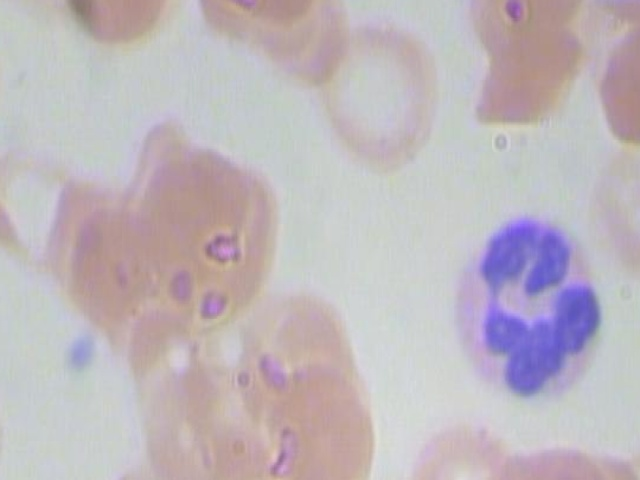Platelets: (55, 327, 99, 375)
RBC: (151, 143, 302, 313), (308, 15, 458, 186), (454, 2, 593, 146), (52, 182, 174, 336), (132, 343, 254, 480), (259, 351, 381, 480), (575, 0, 640, 157), (396, 406, 517, 480), (580, 134, 640, 277), (48, 0, 187, 55), (484, 424, 606, 480), (528, 421, 640, 480), (477, 0, 617, 31), (185, 0, 324, 31), (609, 421, 640, 480), (66, 474, 171, 480)
WBC: (426, 205, 622, 410)
